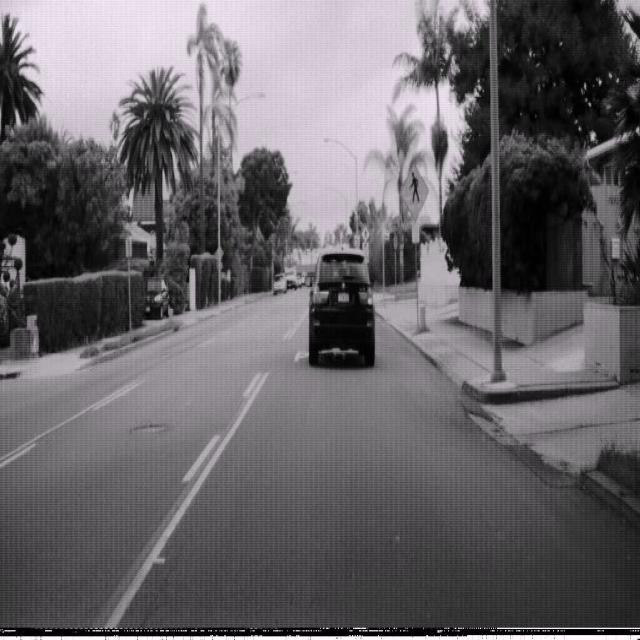pedestrianCrossing: (399, 159, 429, 222)
